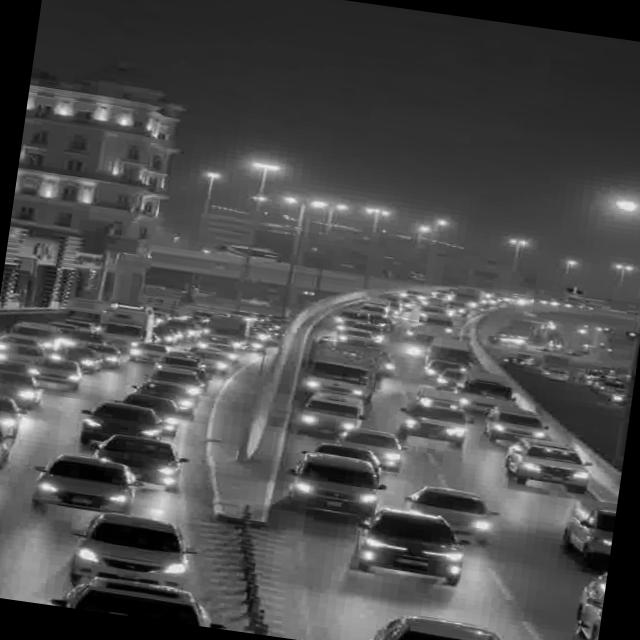ambulance: (394, 380, 475, 446)
